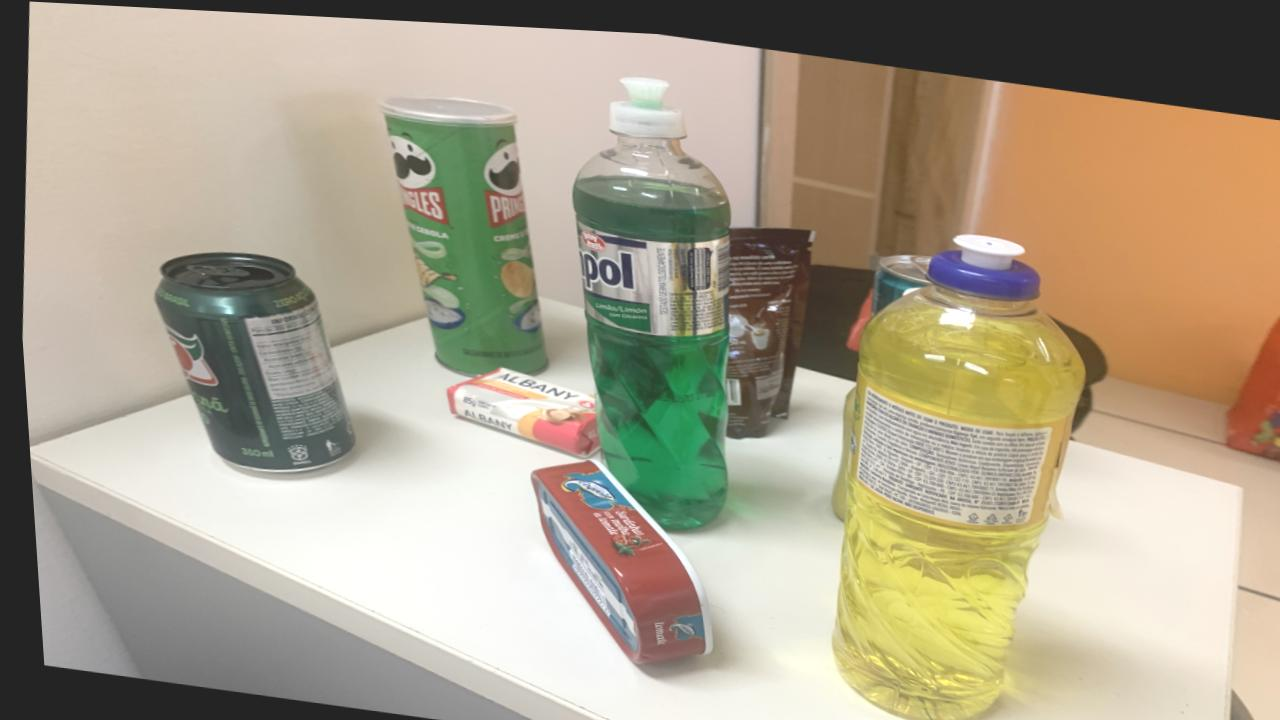Coffee-Pantry_Items: (720, 219, 810, 431)
Detergent-Cleanup_Items: (824, 224, 1080, 714), (570, 71, 728, 523)
Guarana_Can-Drinks: (149, 250, 348, 470)
Pringles-Snacks: (380, 92, 542, 370)
Soap-Cleanup_Items: (440, 363, 594, 450)
Tea-Drinks: (868, 244, 928, 306)
Tuna_Can-Pantry_Items: (525, 453, 703, 658)
